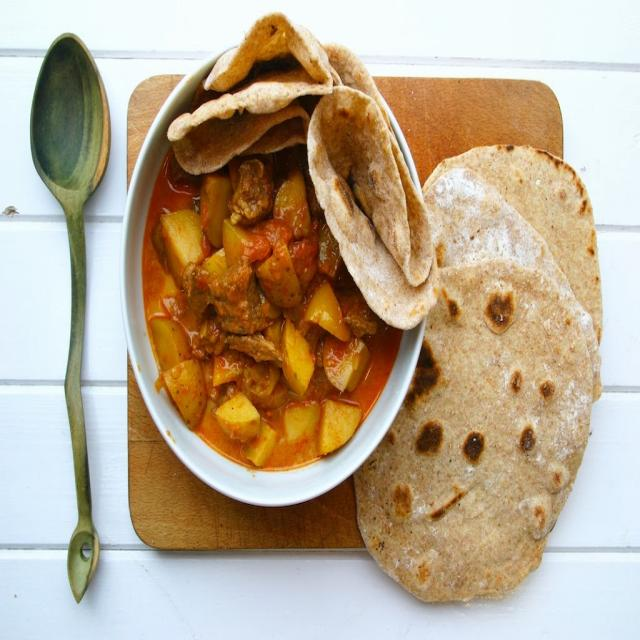roti: (169, 14, 603, 603)
